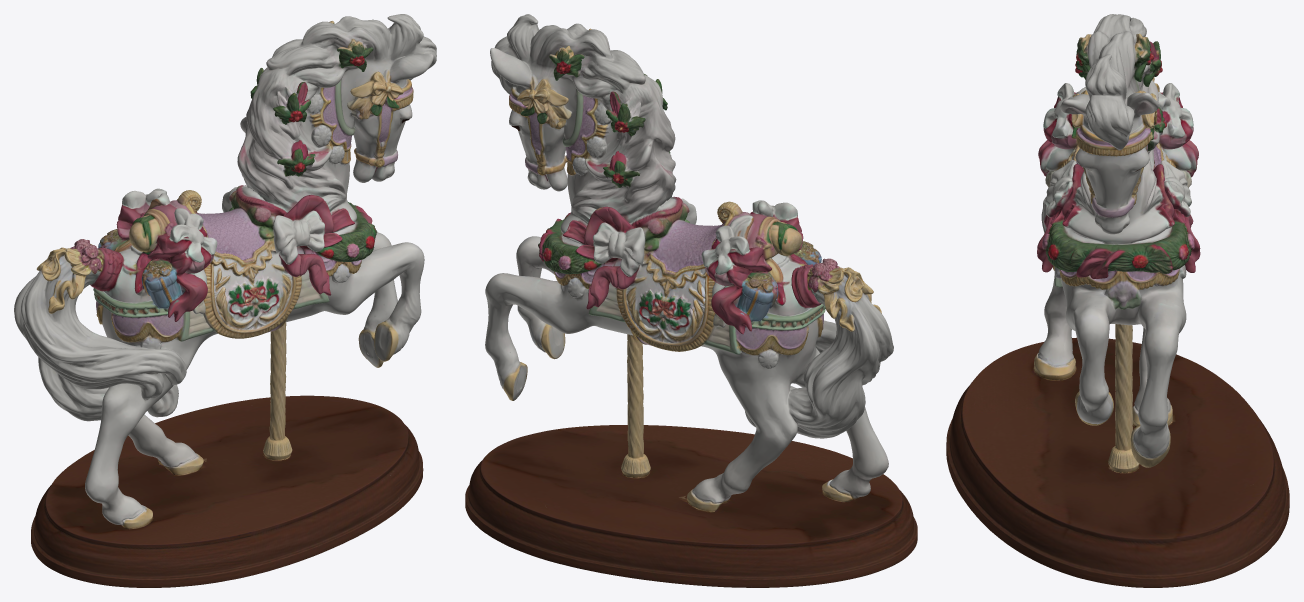
Rendered from Modelo 2.glb.
The picture shows the model from 3 angles, left to right: view 1: azimuth 30°, elevation 25°; view 2: azimuth 150°, elevation 25°; view 3: azimuth 270°, elevation 25°; orthographic projection. The views are drawn at different scales.
Visible parts, largest first — view 1: tripo_node_fa3965a7-5667-4db8-9202-49843831202b; view 2: tripo_node_fa3965a7-5667-4db8-9202-49843831202b; view 3: tripo_node_fa3965a7-5667-4db8-9202-49843831202b.
Part boxes in pixels (x1,y1,x2,y2): tripo_node_fa3965a7-5667-4db8-9202-49843831202b: [14, 14, 436, 587]; tripo_node_fa3965a7-5667-4db8-9202-49843831202b: [465, 14, 917, 587]; tripo_node_fa3965a7-5667-4db8-9202-49843831202b: [946, 14, 1289, 587].
Size of the model in its own units: 0.8942 by 0.9791 by 0.5881.
Materials: 1 (1 with a texture image).
